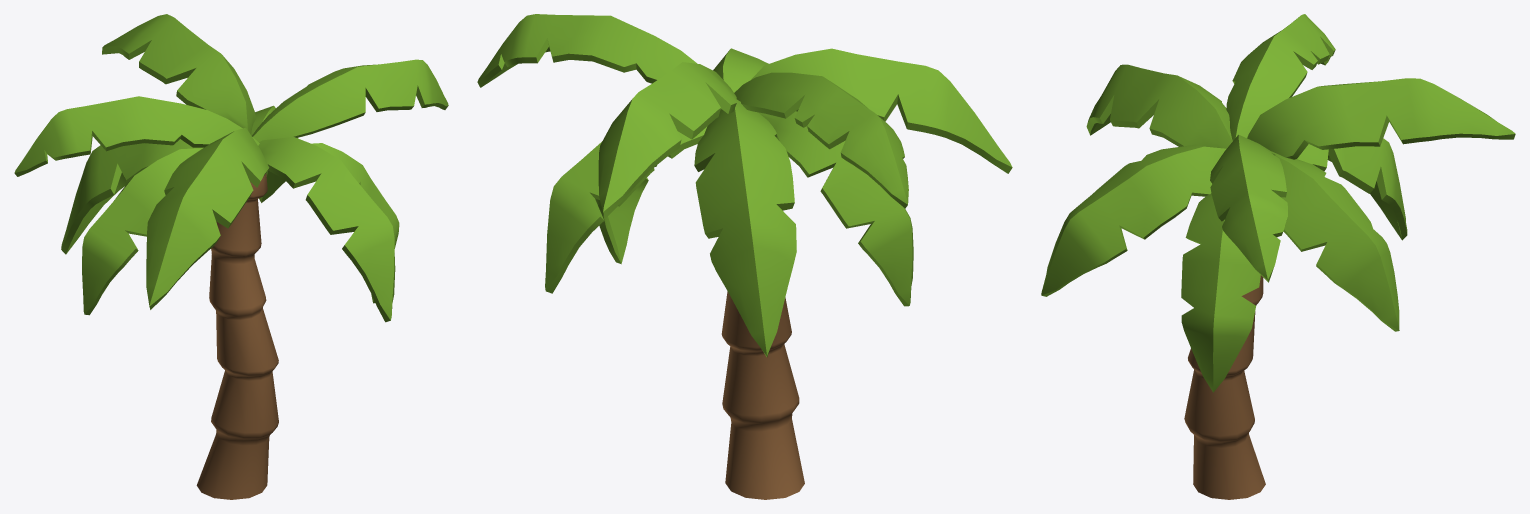
The model's file is palm.glb.
The picture shows the model from 3 angles, left to right: view 1: azimuth 30°, elevation 25°; view 2: azimuth 150°, elevation 25°; view 3: azimuth 270°, elevation 25°; orthographic projection. The views are drawn at different scales.
Visible parts, largest first — view 1: Environment_PalmTree_3; view 2: Environment_PalmTree_3; view 3: Environment_PalmTree_3.
Part boxes in pixels (left/top/right/bottom): Environment_PalmTree_3: left=14, top=14, right=448, bottom=499; Environment_PalmTree_3: left=477, top=14, right=1012, bottom=499; Environment_PalmTree_3: left=1041, top=14, right=1515, bottom=499.
Bounding box in the file's own units: 2.86 × 2.69 × 2.75.
1 material, 1 textured.
